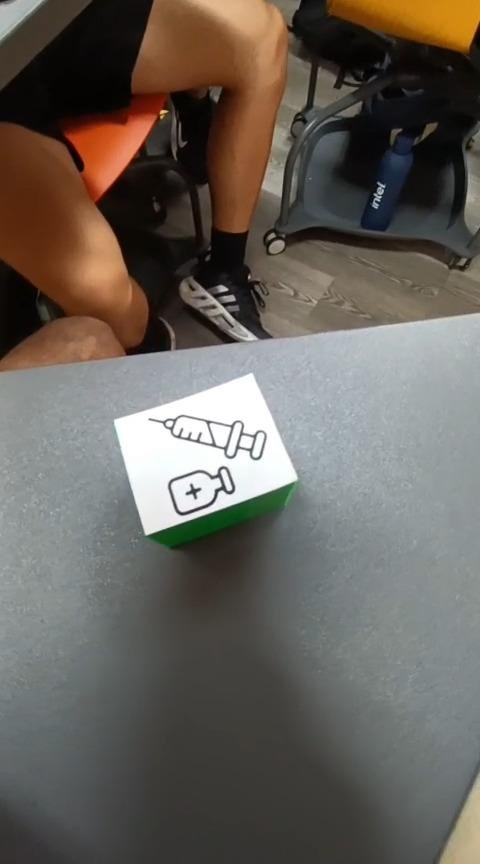antiseptic cream: (112, 371, 299, 549)
